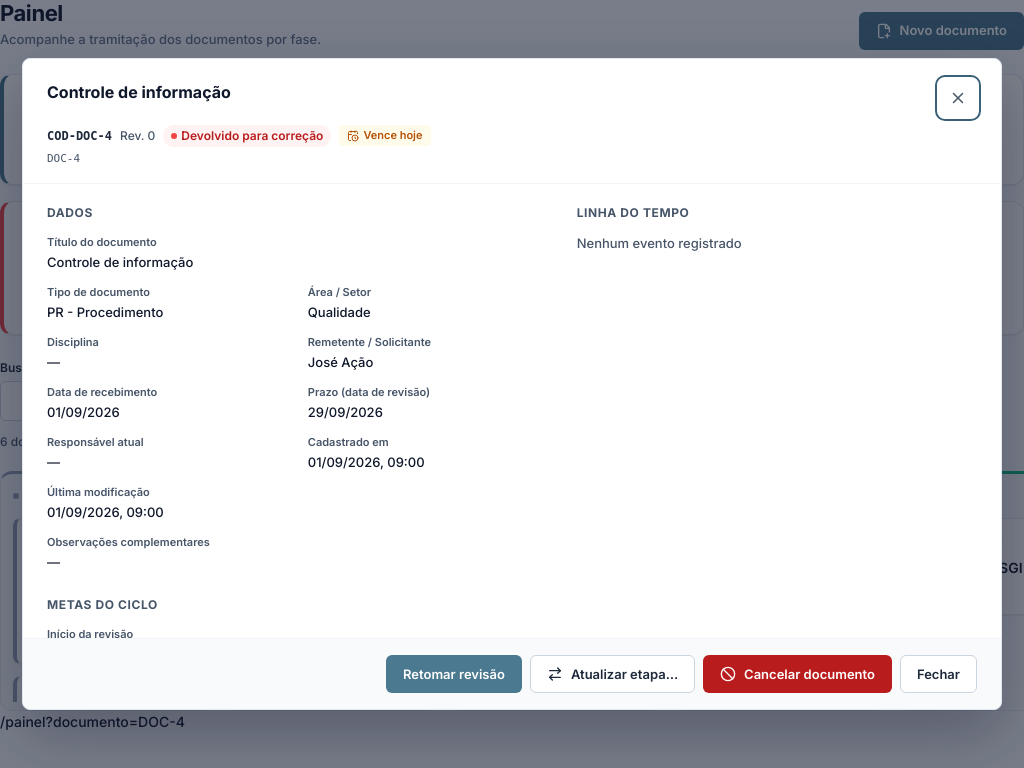
Test: TelaPainel: detalhes (F4) › ?documento= na URL abre os detalhes ao carregar; fechar remove o parâmetro e leva o foco ao título da tela
Click the button named "Fechar detalhes".
click(958, 98)  # box x1=939 y1=79 x2=977 y2=117
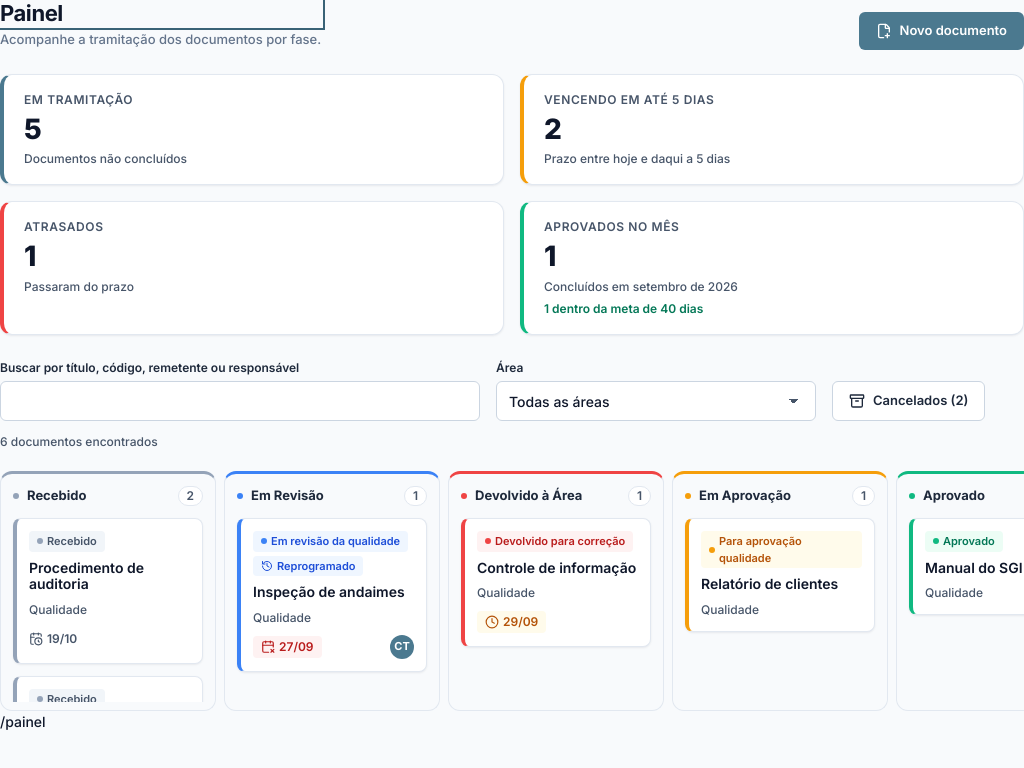
Expected: the text with test id "endereco" reads "/painel", x1=0 y1=713 x2=46 y2=730
